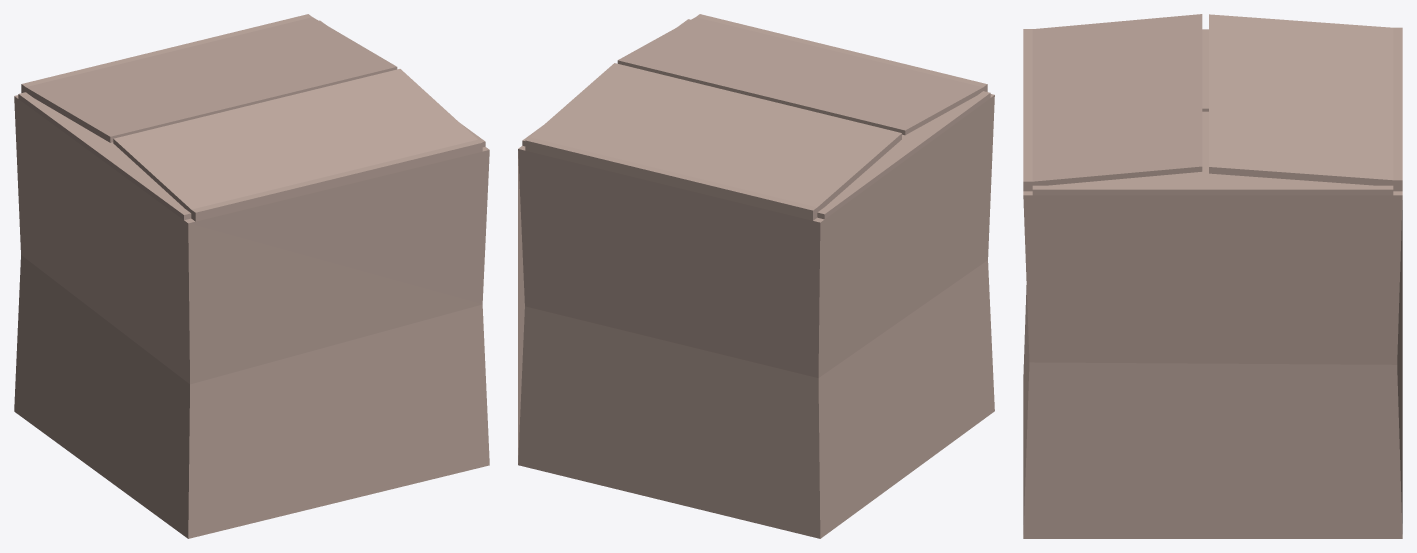
The model's file is ClosedBox.fbx.
3 renders of one model, left to right at view 1: azimuth 30°, elevation 25°; view 2: azimuth 150°, elevation 25°; view 3: azimuth 270°, elevation 25°, orthographic. The views are drawn at different scales.
Parts seen in each view (by area): view 1: CardboardBox1; view 2: CardboardBox1; view 3: CardboardBox1.
Boxes of the visible parts, box(x1,y1,x2,y2) form: CardboardBox1: box(14, 14, 489, 538); CardboardBox1: box(518, 14, 994, 538); CardboardBox1: box(1023, 14, 1402, 538).
Bounding box in the file's own units: 1 × 1.07 × 1.
